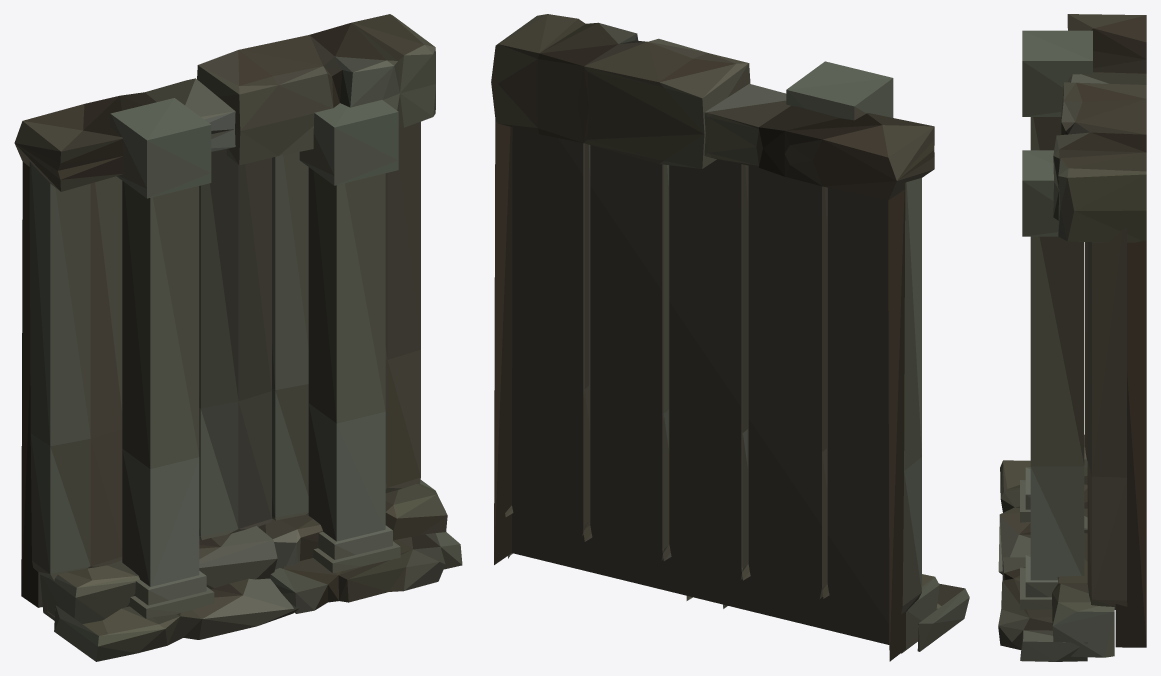
The model's file is wall_A_5m_2.fbx.
3 views of the same model, side by side, from view 1: azimuth 30°, elevation 25°; view 2: azimuth 150°, elevation 25°; view 3: azimuth 270°, elevation 25° (orthographic). The views are drawn at different scales.
Visible parts, largest first — view 1: wall_A_5m_2; view 2: wall_A_5m_2; view 3: wall_A_5m_2.
Part boxes in pixels (x1,y1,x2,y2): wall_A_5m_2: (14,14,462,661); wall_A_5m_2: (491,14,969,661); wall_A_5m_2: (998,14,1146,661).
Bounding box in the file's own units: 5.17 × 6.5 × 1.79.
